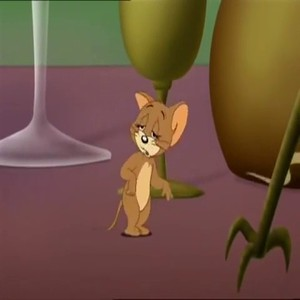Jerry: (109, 82, 190, 246)
